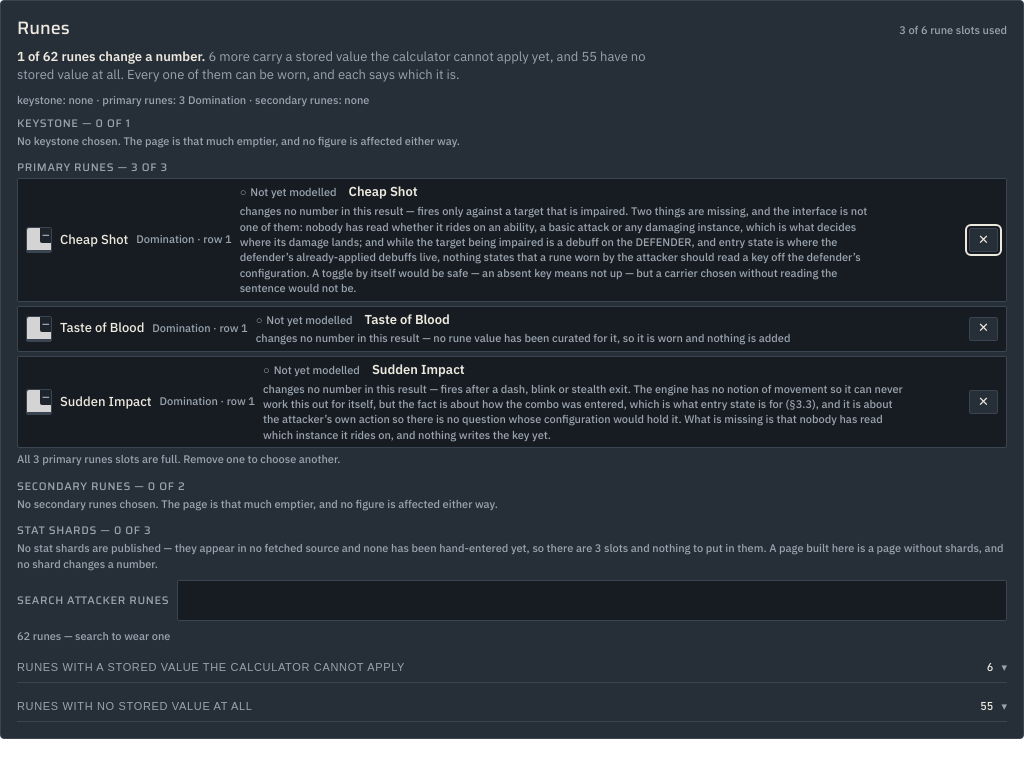
Test: runes/focus after a removal › focus lands on the next remove control when one is left behind
Click the button named "Remove ". click: [984, 240]
box: [969,228,998,252]
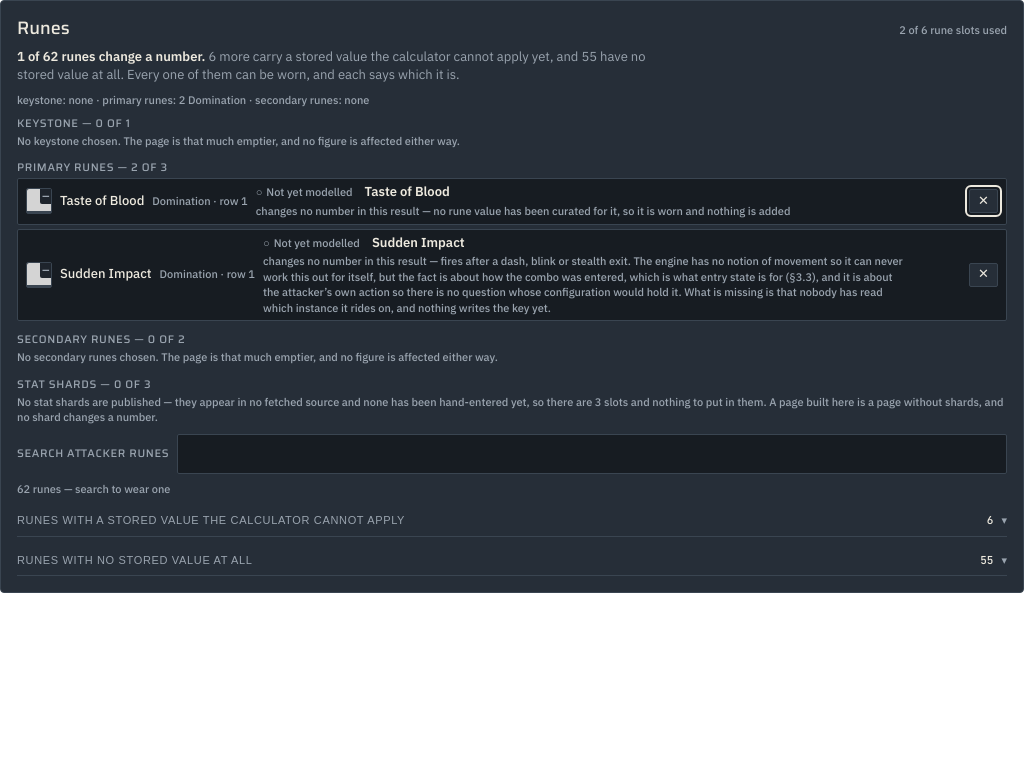
Check: the number of buttons named "Remove " is 2, box [969,190,998,214]; [969,263,998,287]
